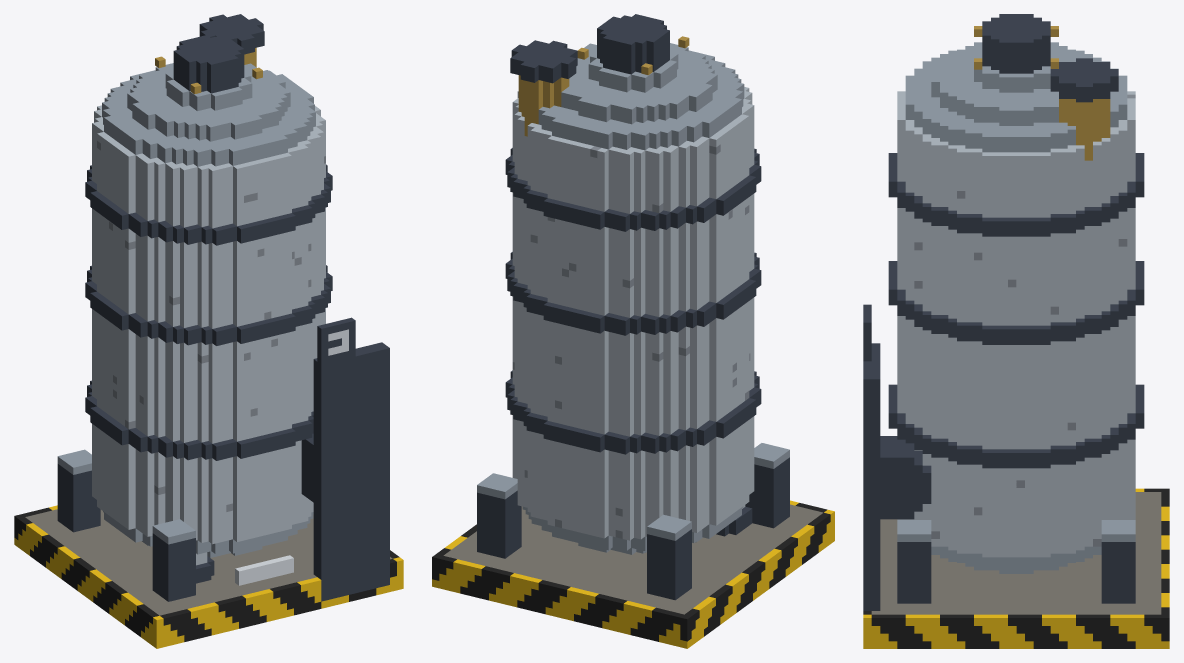
Rendered from air_receiver.obj.
The picture shows the model from 3 angles, left to right: view 1: azimuth 30°, elevation 25°; view 2: azimuth 150°, elevation 25°; view 3: azimuth 270°, elevation 25°; orthographic projection. The views are drawn at different scales.
Visible parts, largest first — view 1: air_receiver; view 2: air_receiver; view 3: air_receiver.
Boxes of the visible parts, bbox=[...] form: air_receiver: bbox=[14, 14, 403, 648]; air_receiver: bbox=[432, 14, 834, 648]; air_receiver: bbox=[863, 14, 1169, 648].
Size of the model in its own units: 1.12 by 2.25 by 1.12.
